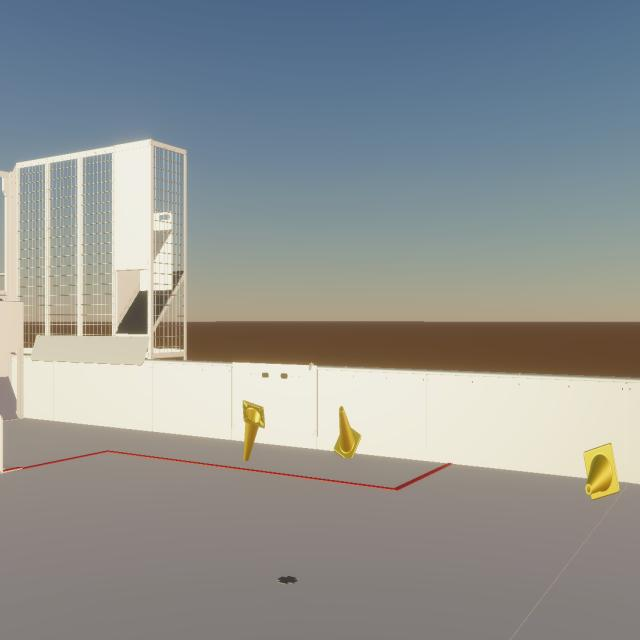frc_cone: (584, 443, 620, 500), (334, 406, 361, 458), (243, 400, 265, 461)
